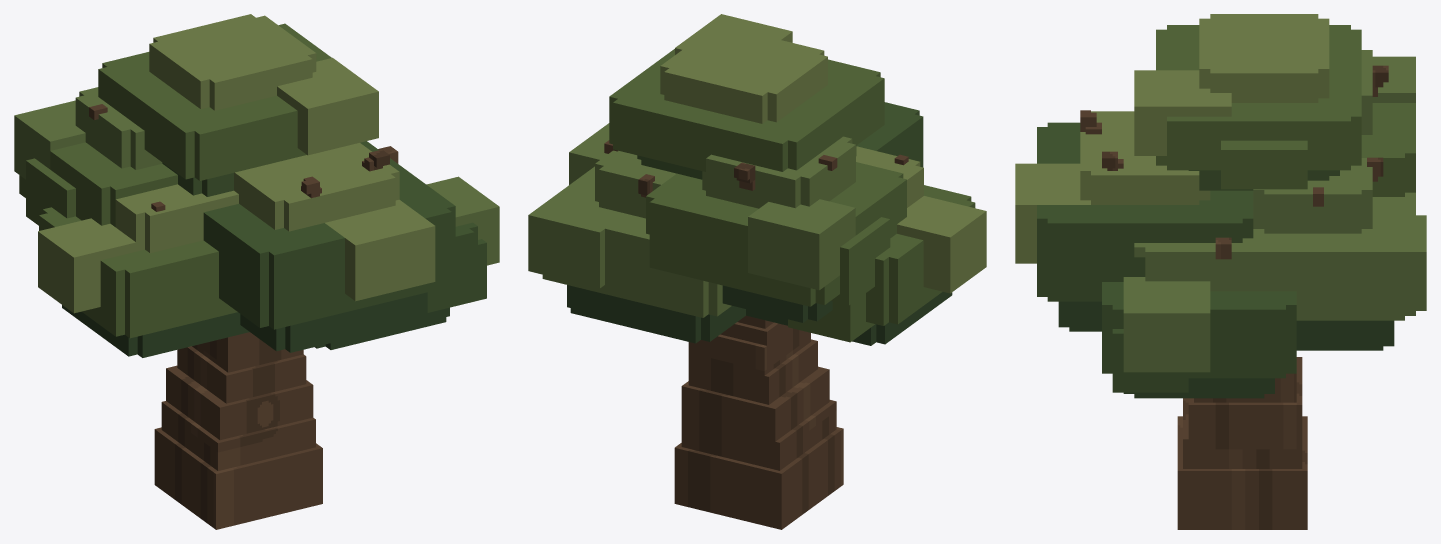
The model's file is apple_mature_2.glb.
3 renders of one model, left to right at view 1: azimuth 30°, elevation 25°; view 2: azimuth 150°, elevation 25°; view 3: azimuth 270°, elevation 25°, orthographic. The views are drawn at different scales.
Parts seen in each view (by area): view 1: VoxelVisual; view 2: VoxelVisual; view 3: VoxelVisual.
Boxes of the visible parts, x1=… form: VoxelVisual: x1=14, y1=14, x2=499, y2=529; VoxelVisual: x1=528, y1=14, x2=986, y2=529; VoxelVisual: x1=1015, y1=14, x2=1426, y2=529.
Size of what is drawn, in the model's own units: 11.25 by 11.75 by 9.5.
